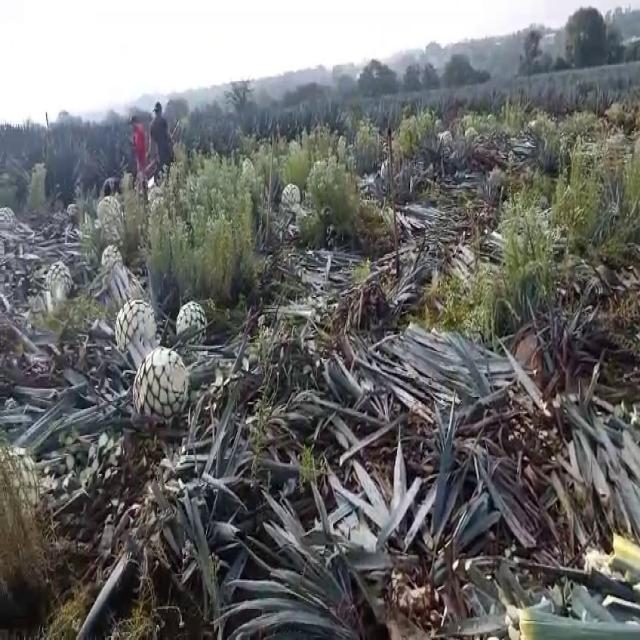agave: (129, 345, 191, 421), (115, 300, 158, 364), (175, 300, 208, 353), (43, 259, 74, 309), (97, 239, 122, 285), (279, 182, 300, 208)
